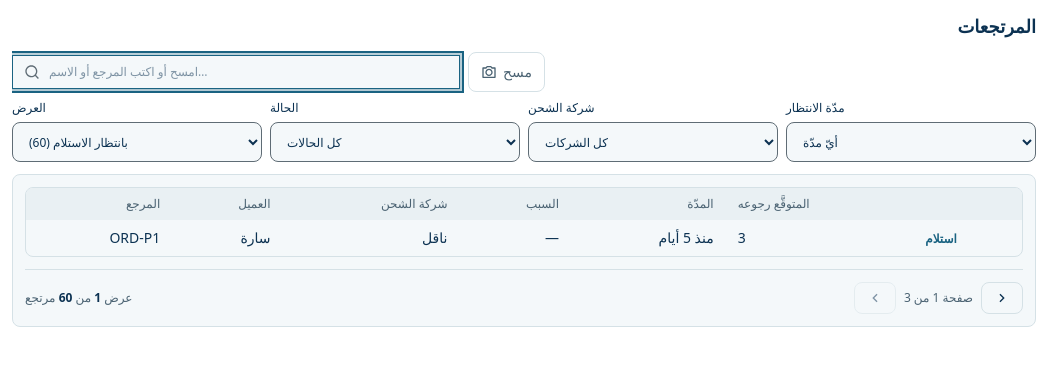
Scenario: the two views › and the state and the age do not apply to a parcel already counted: gone from the toolbar, and not carried into the record
Expected: the dropdown labelled "العرض" is shown, left=12, top=122, right=262, bottom=162
Select "مرتجع (40)" in the dropdown labelled "الحالة" at x=395, y=142, box left=270, top=122, right=520, bottom=162
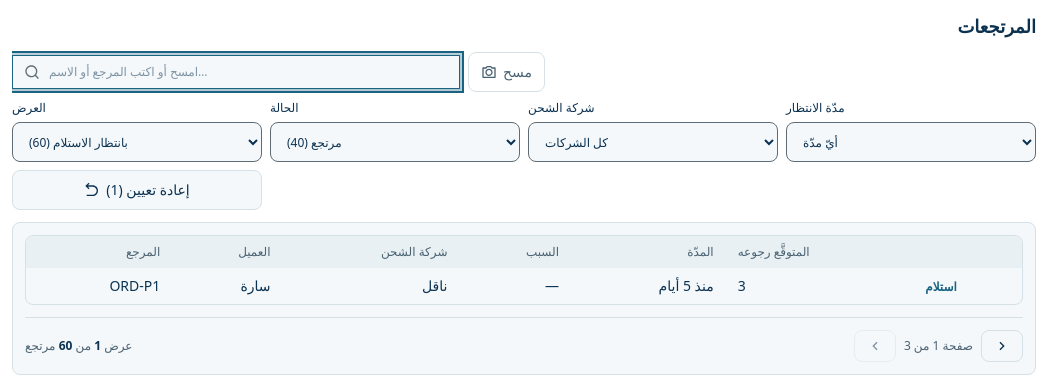
Select "أكثر من أسبوع (10)" in the dropdown labelled "مدّة الانتظار" at x=911, y=142, box left=786, top=122, right=1036, bottom=162
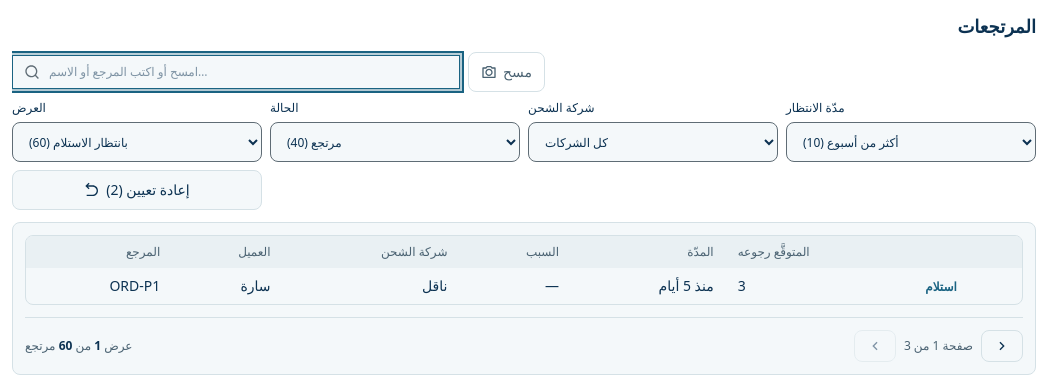
Select "ناقل (35)" in the dropdown labelled "شركة الشحن" at x=653, y=142, box left=528, top=122, right=778, bottom=162
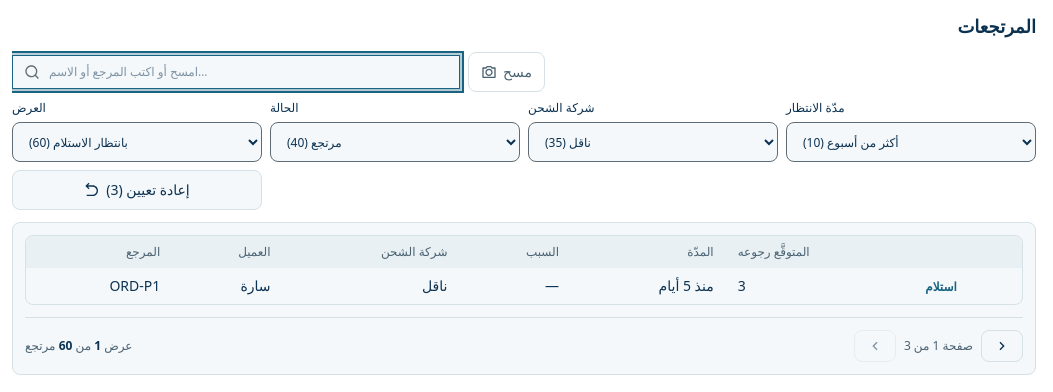
Select "تم استلامها (14)" in the dropdown labelled "العرض" at x=137, y=142, box left=12, top=122, right=262, bottom=162
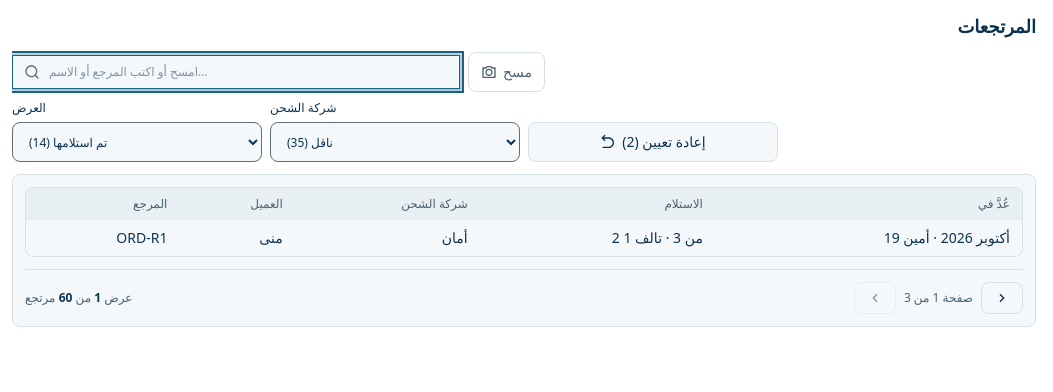
Expected: the label labelled "الحالة" is gone
Expected: the label labelled "مدّة الانتظار" is gone
